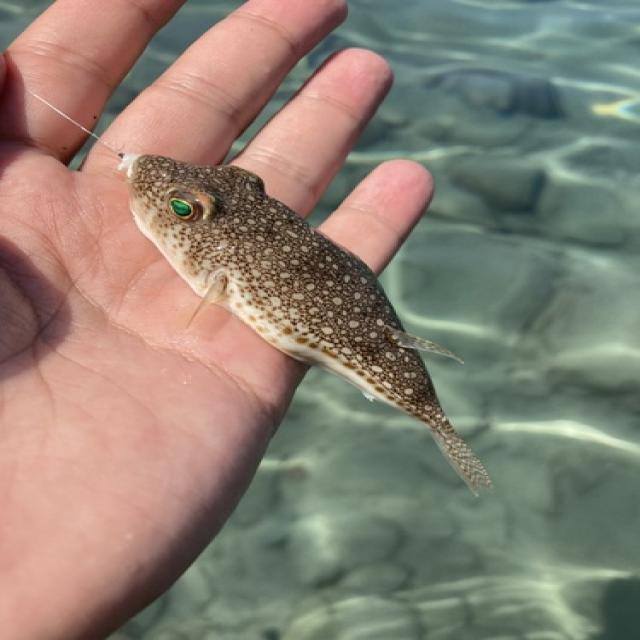Balik: (120, 154, 491, 494)
